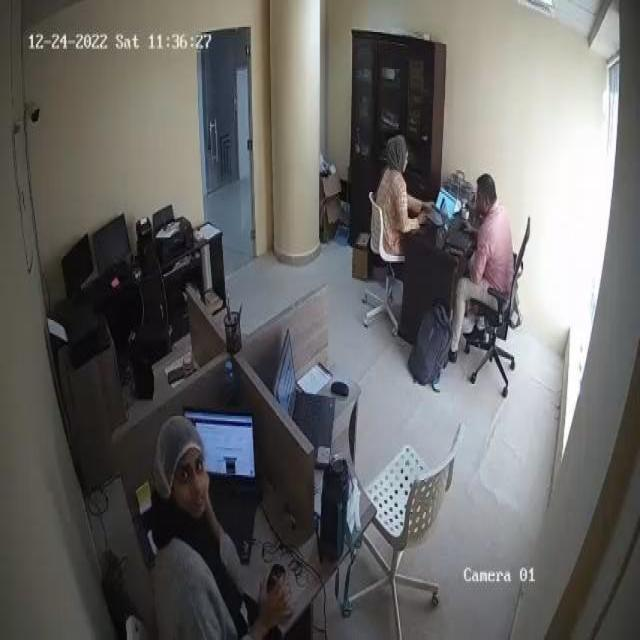bare_hand: (251, 574, 298, 640), (461, 205, 481, 241), (413, 204, 434, 232), (421, 200, 437, 216)
